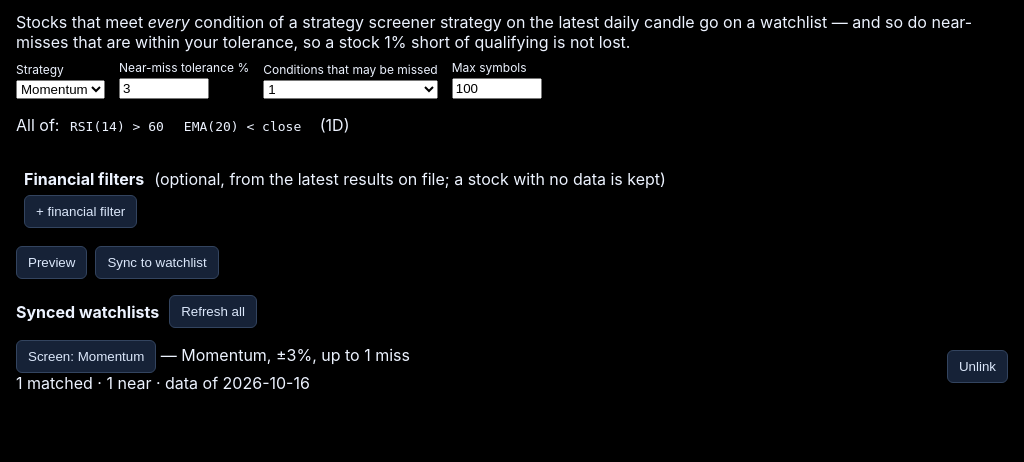
Test: StrategiesView › refreshes all synced lists and reports a failure per strategy
Click the button "Refresh all".
click(213, 312)  # box [169,295,257,328]
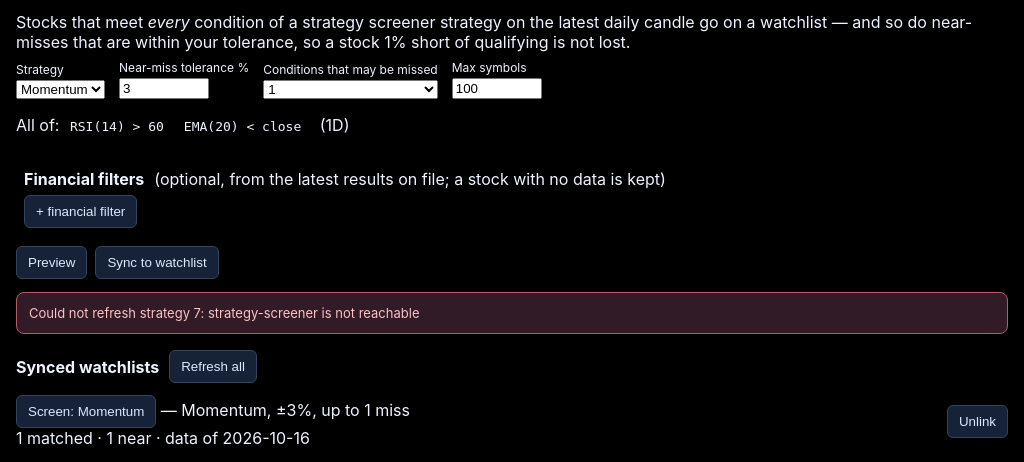
Now the message reads "Could not refresh strategy 7: strategy-screener is not reachable", box [29,305,420,321]
